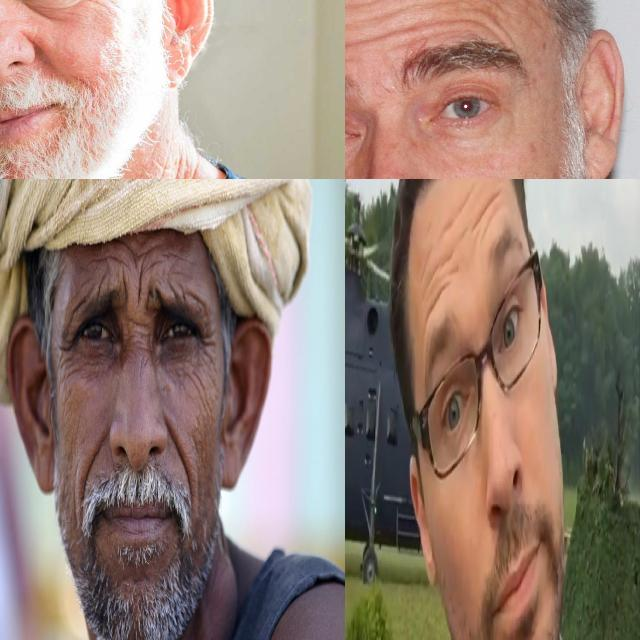crows_feet: (58, 334, 78, 368), (199, 328, 214, 361), (84, 0, 114, 6)
forehead: (434, 4, 512, 36), (370, 15, 422, 48), (421, 262, 445, 308), (471, 194, 498, 230), (440, 208, 456, 238), (345, 37, 359, 69), (125, 242, 145, 263), (166, 245, 183, 267), (100, 248, 120, 266), (93, 275, 105, 302), (448, 260, 461, 278), (146, 254, 160, 270)
frown_line: (136, 268, 144, 304), (120, 275, 130, 302)
gummy_smile: (82, 429, 104, 485), (170, 424, 188, 484)
